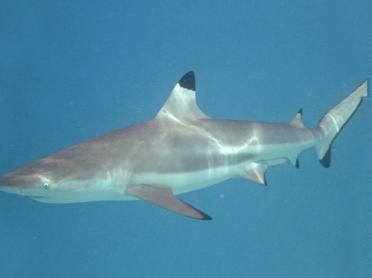Shark -Selachimorpha-: (0, 70, 368, 221)
